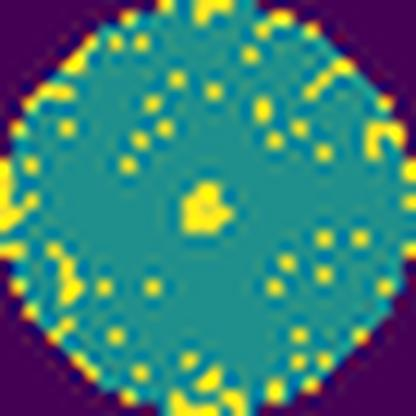Center: (181, 174, 235, 246)
